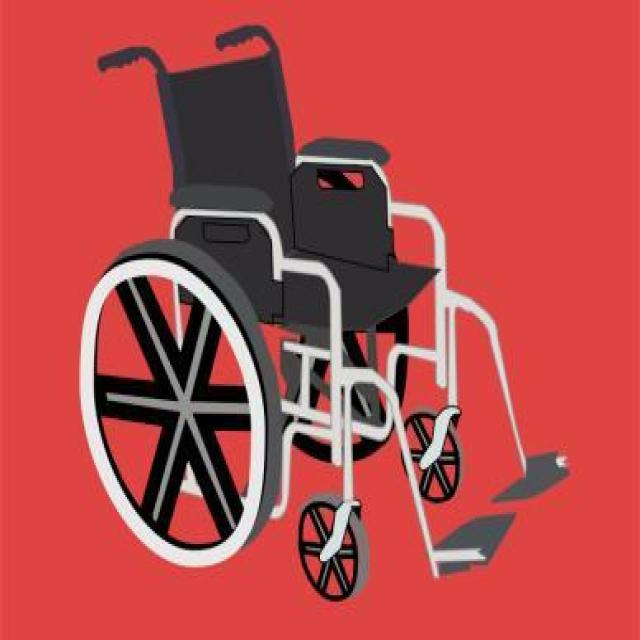wheelchairs: (73, 20, 578, 612)
